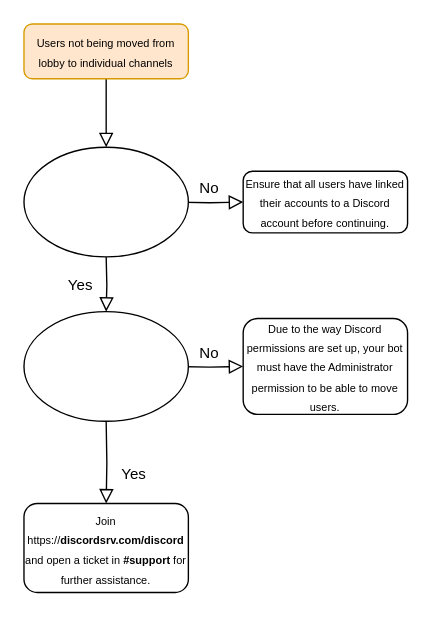
Image size: 432x617. Some labels were removed from this diagram. Here are the shapes that lost their labels. From the top down, the box of each, then its label:
(23, 146, 188, 257): Users linked with /discordsrv link? Verify with /discordsrv linked <user>
(23, 310, 188, 421): Bot has Administrator permission?
